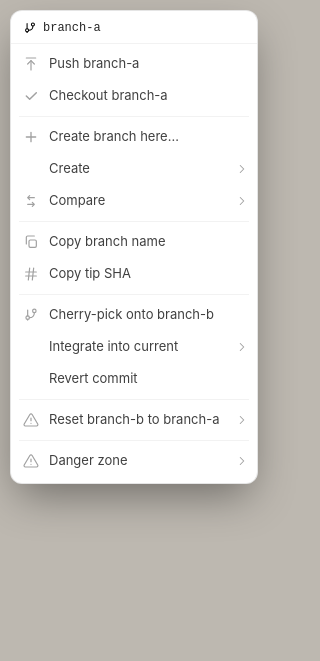
it: BranchContextMenu › stops re-probing fast-forward and drops it when live HEAD moves onto the open menu branch
The width and height of the screenshot is (320, 661).
Click the menu item "Integrate into current": [134, 347] box [11,331,257,363]
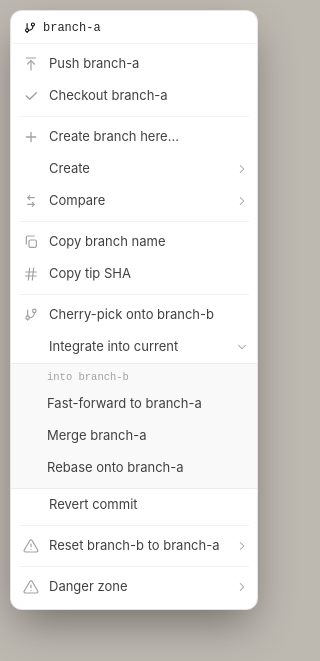
Check: the menu item "Fast-forward to branch-a" is shown, box [11,388,257,420]
